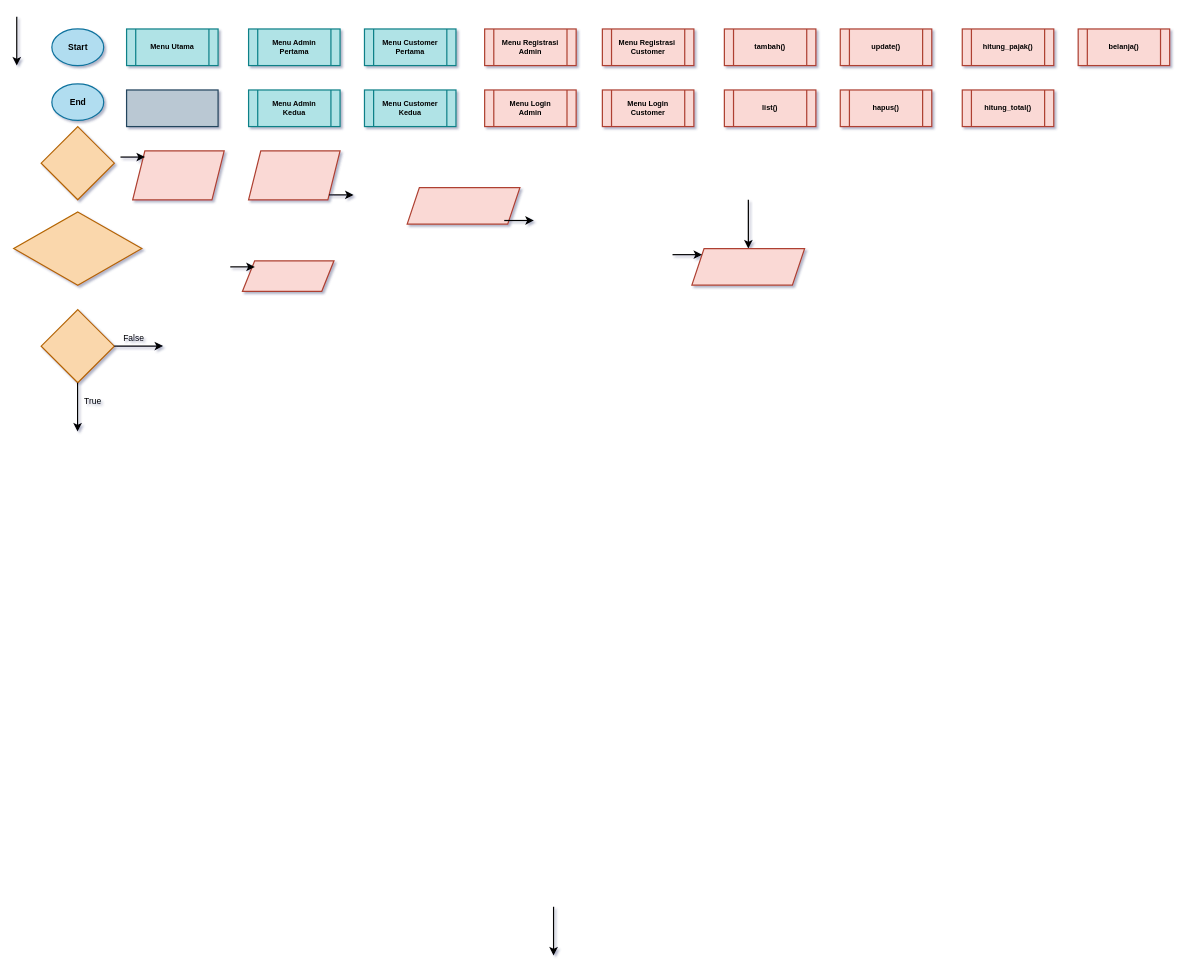
The diagram is 1184 pixels wide and 976 high, and some of its shapes have lost their labels. Here are the shapes that lost their labels. From the top down, the centre of each, then its label:
the point at 77,163: if username in akuns
the point at 463,205: Terima Kasih Sudah Berkunjung :)
the point at 77,248: Opsi 1
the point at 748,266: Anda Belum Memiliki Akun. Silahkan Buat Akun Untuk Login
the point at 77,346: opsilogin == 1
